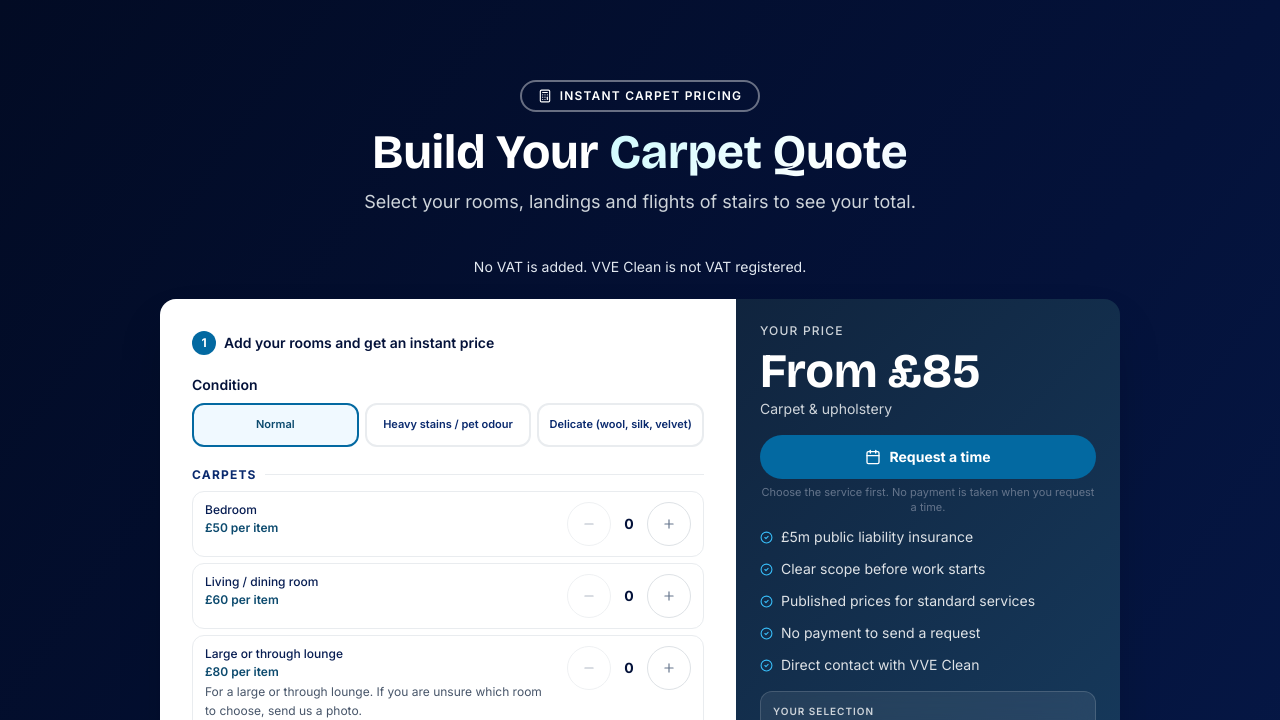
Test case: Carpet page quote — carpet plus upholstery › removes an upholstery item again and returns to the carpet-only total
Click the button named "Increase Bedroom quantity" at (669, 524), box 647,502 -> 691,546
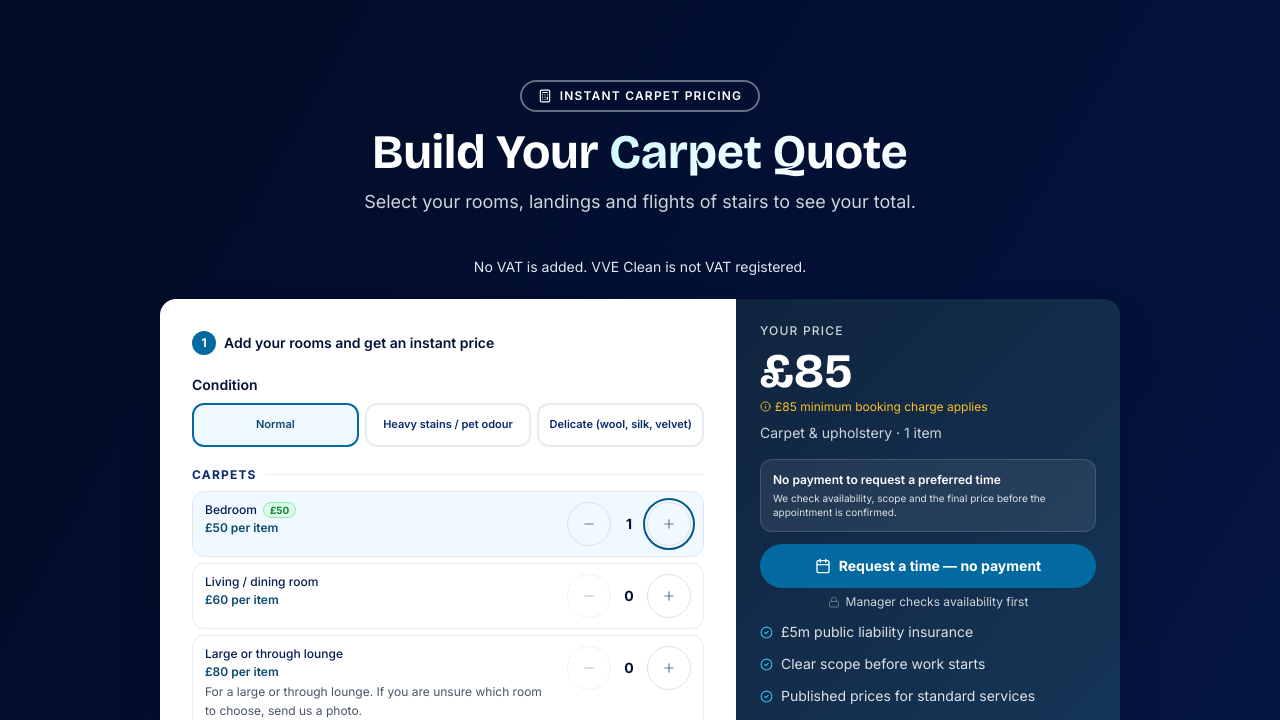
Click the button named "Increase Living / dining room quantity" at (669, 596), box 647,574 -> 691,618
(page scrolled)
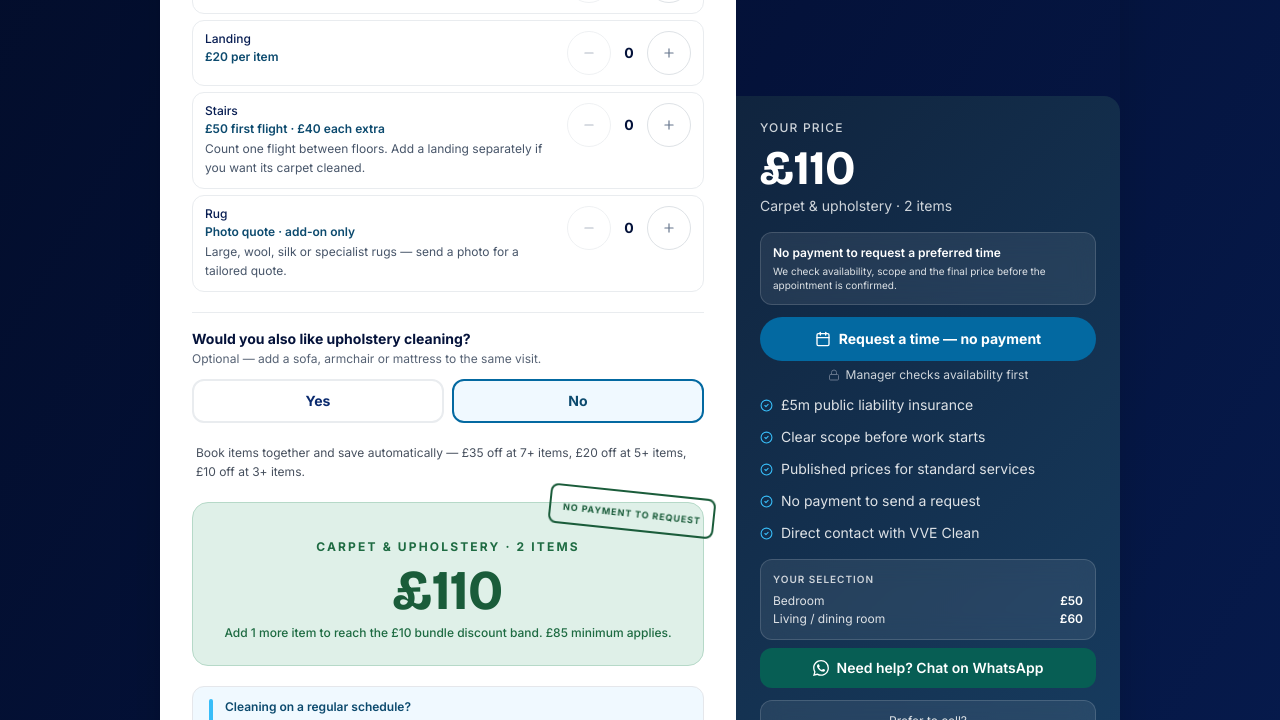
Click the button "Yes" at (318, 401), box 192,379 -> 444,423
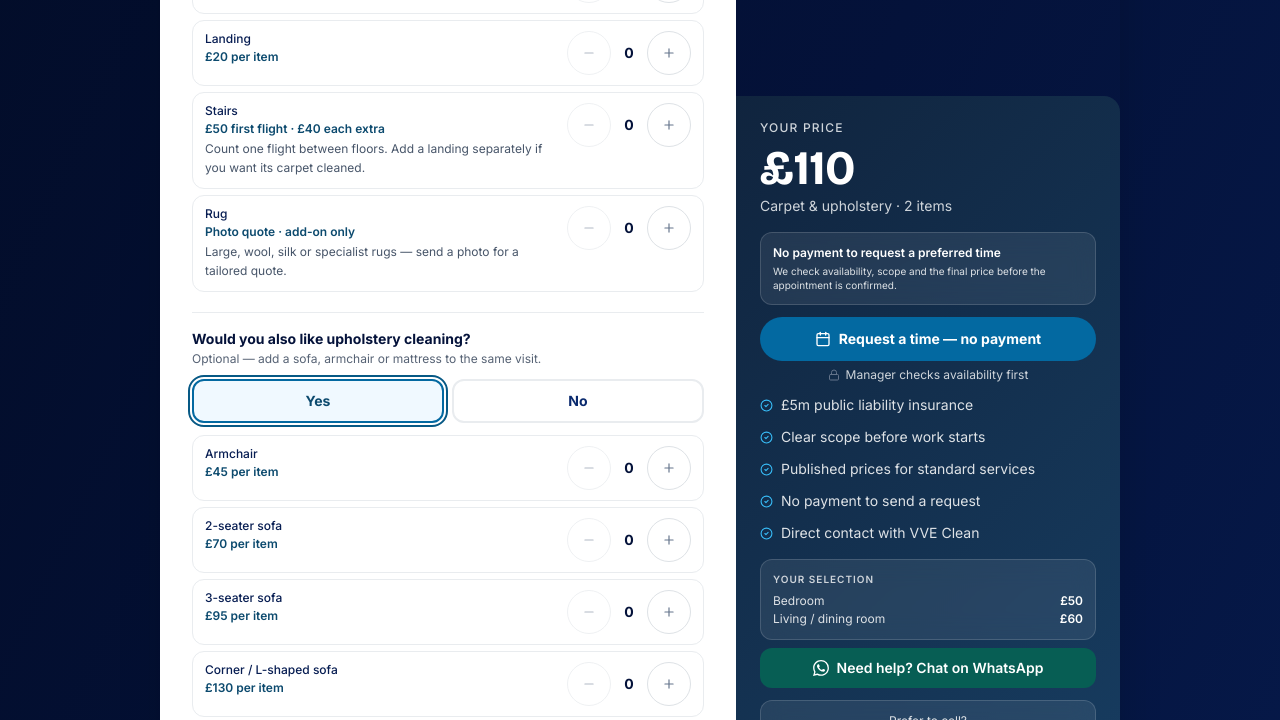
Click the button named "Increase 3-seater sofa quantity" at (669, 612), box 647,590 -> 691,634
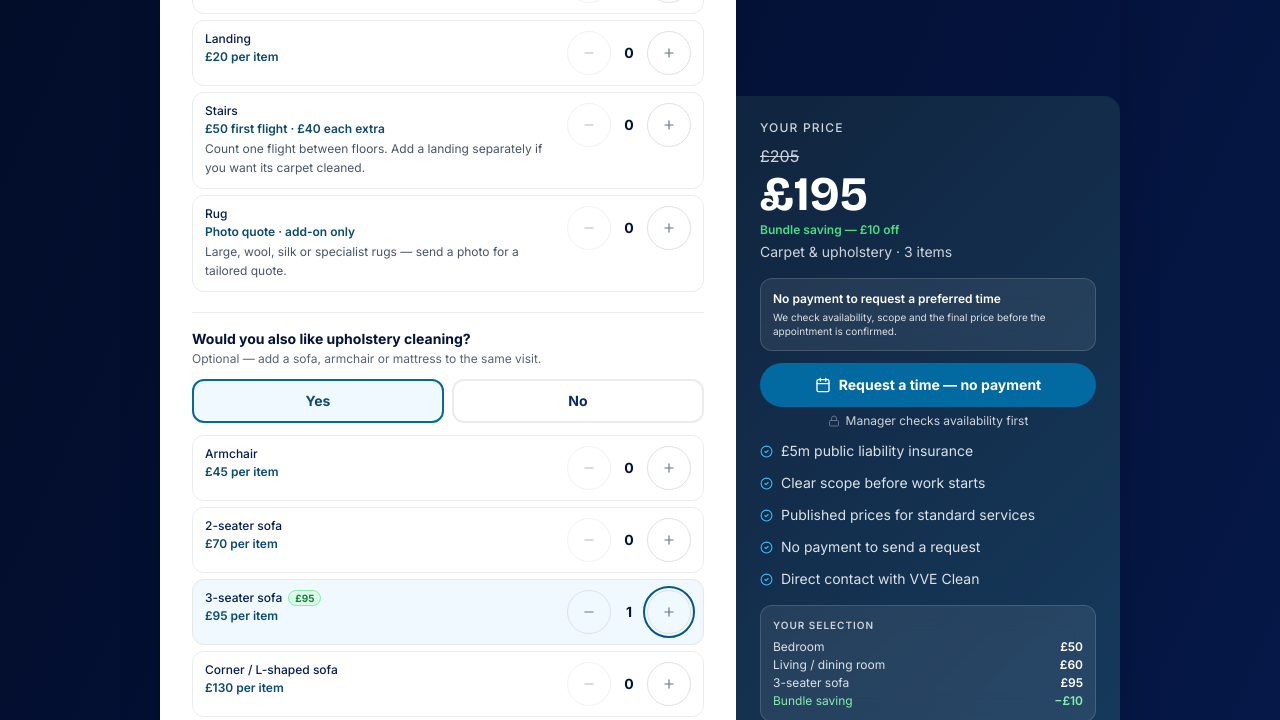
Click the button named "Decrease 3-seater sofa quantity" at (589, 612), box 567,590 -> 611,634
(page scrolled)
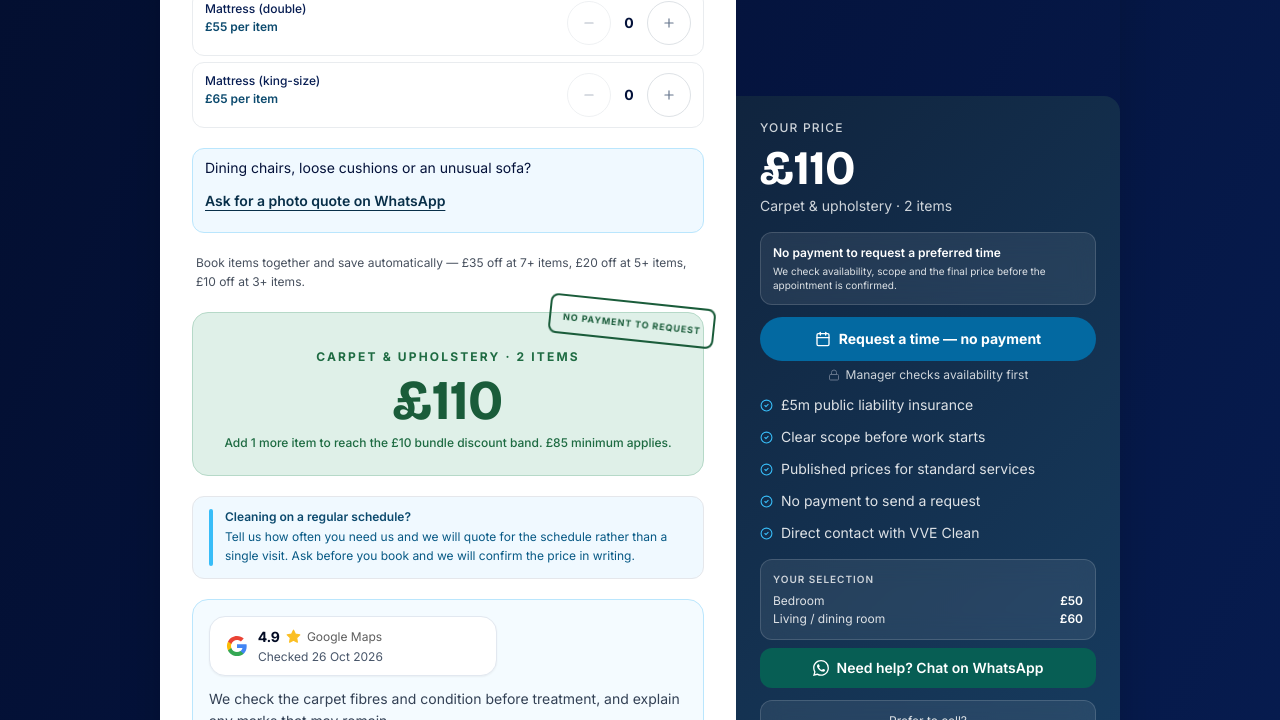
Result: the text "£110" below "Ask for a photo quote on WhatsApp" is shown at 393,366 -> 503,434
Result: the text "£195" is gone
